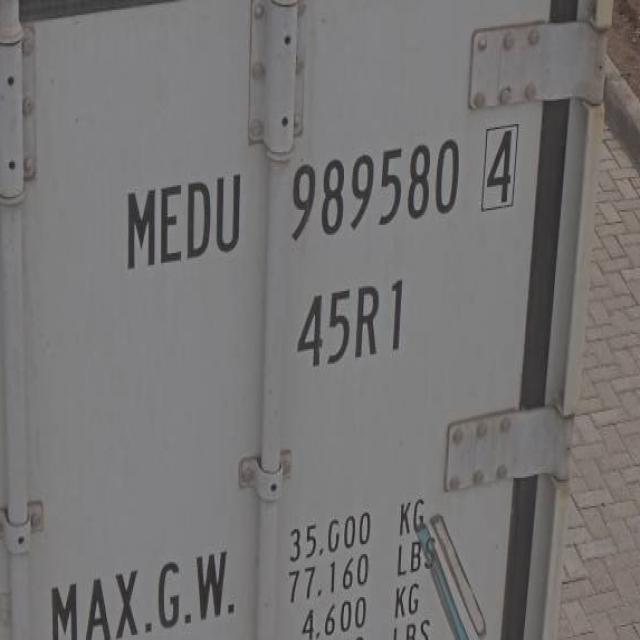dv: (474, 120, 525, 228)
owner: (118, 161, 252, 274)
serial: (289, 132, 464, 246)
size: (294, 268, 409, 381)
